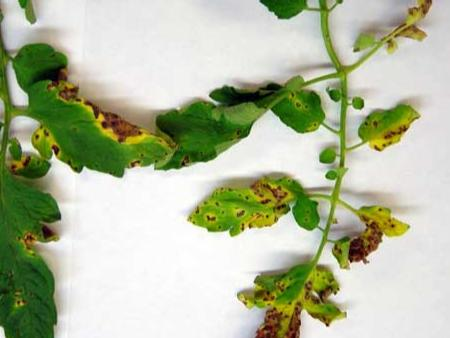Tomato Septoria leaf spot: (25, 60, 176, 192), (183, 176, 304, 245), (231, 269, 346, 338), (358, 88, 429, 154), (264, 74, 324, 139), (357, 201, 416, 244)
